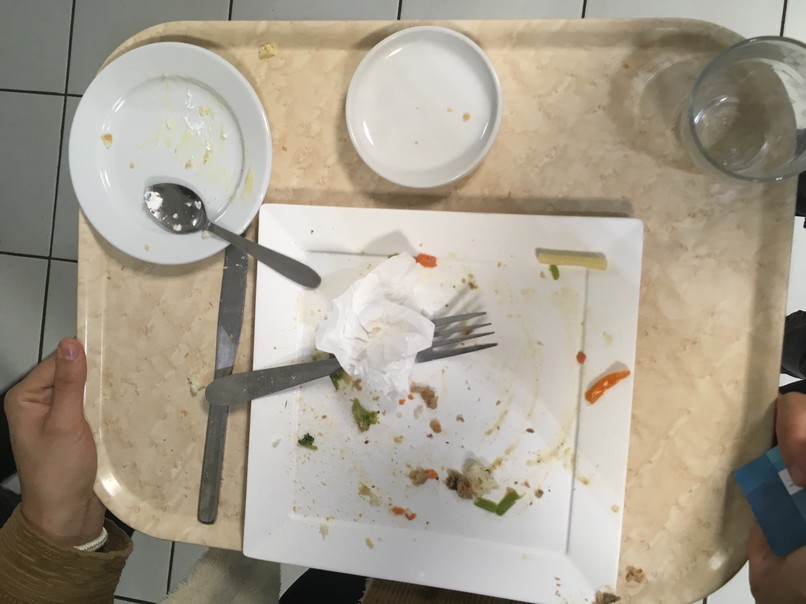cup: (672, 16, 806, 181)
cutlery: (135, 173, 320, 298), (213, 234, 253, 539), (197, 362, 310, 409), (426, 310, 503, 365)
trash: (323, 261, 432, 399)
